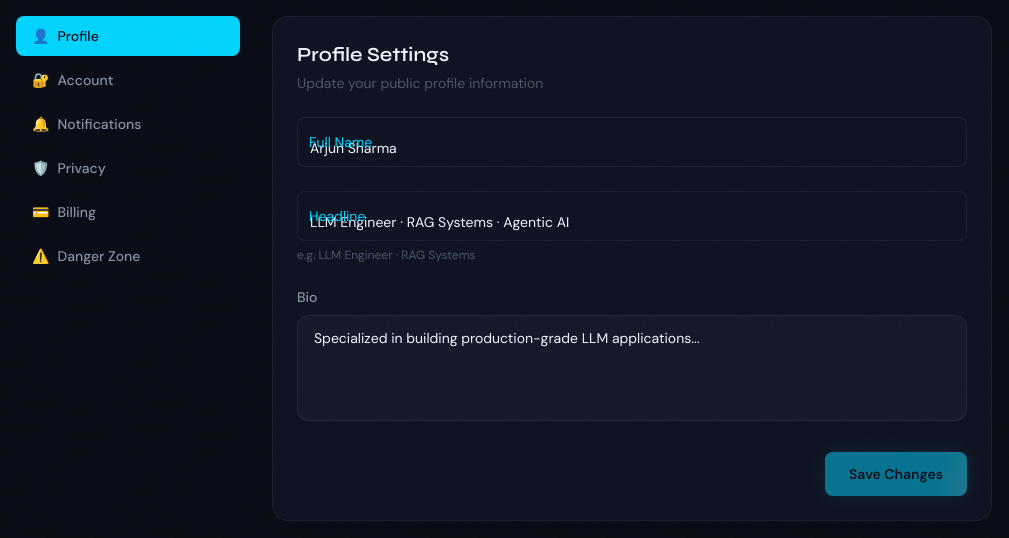
Module 7: Payments, Analytics & Settings › Settings › detects dirty state in profile tab
Expected: the button with test id "save-profile-btn" is disabled, top-left (825, 452), bottom-right (967, 496)
Replace the text in the field showing "Arjun Sharma" with "Arjun Kumar": x=632, y=142 top-left (297, 117), bottom-right (967, 167)
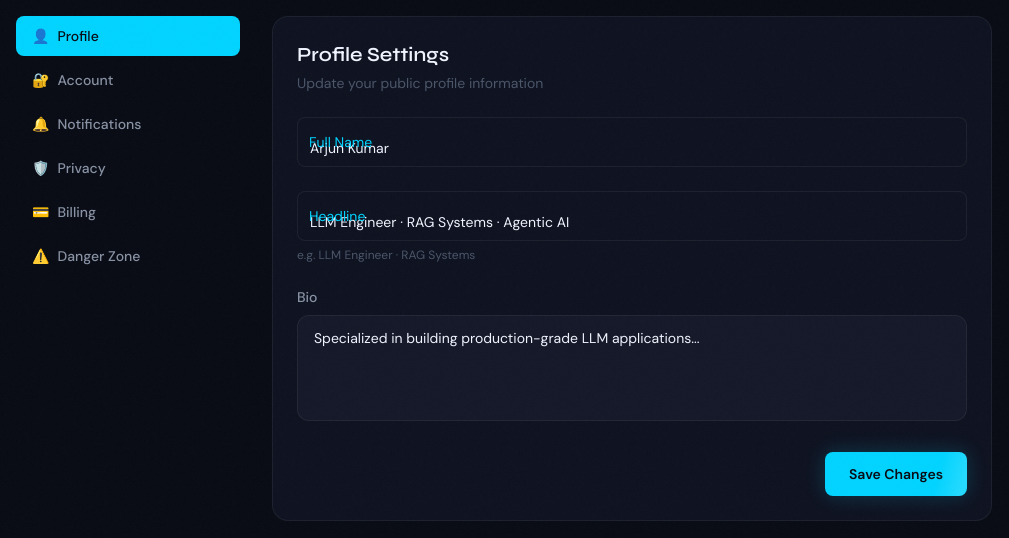
Expected: the button with test id "save-profile-btn" is enabled, top-left (825, 452), bottom-right (967, 496)
